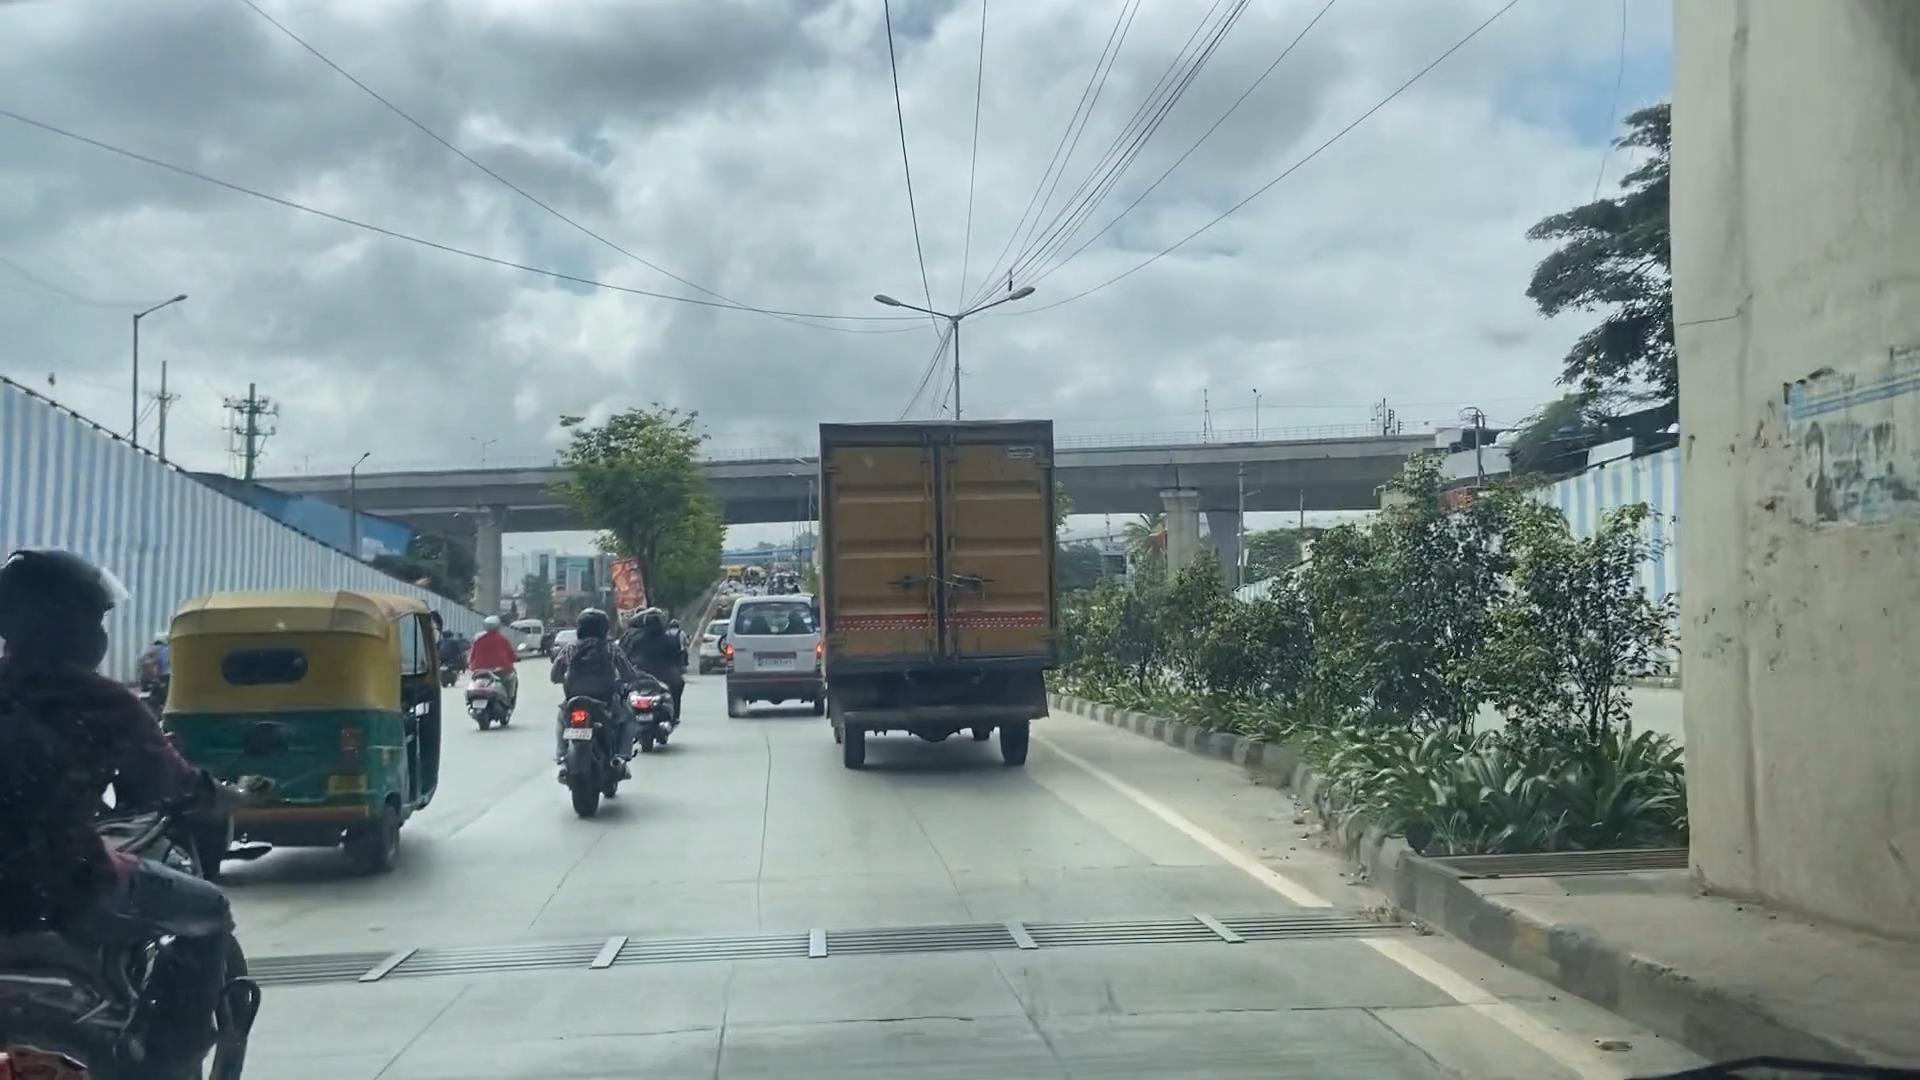HMV: (816, 423, 1062, 765)
LMV: (137, 613, 447, 862), (554, 607, 629, 785), (709, 593, 822, 707)
